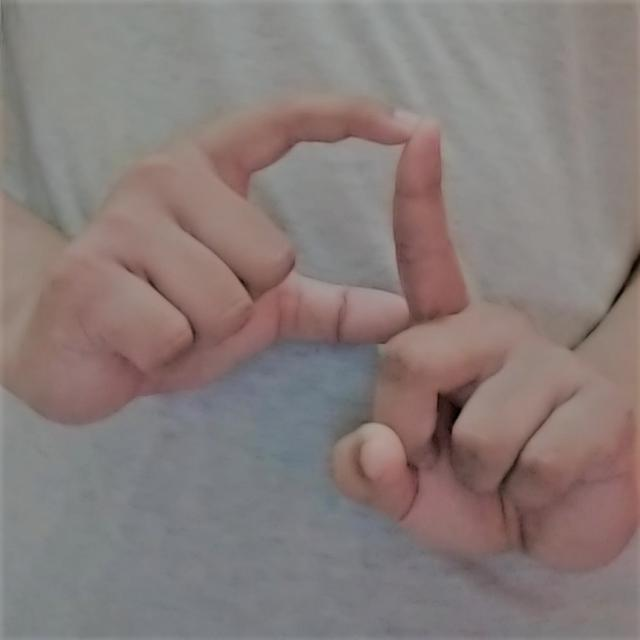D: (8, 85, 634, 582)
